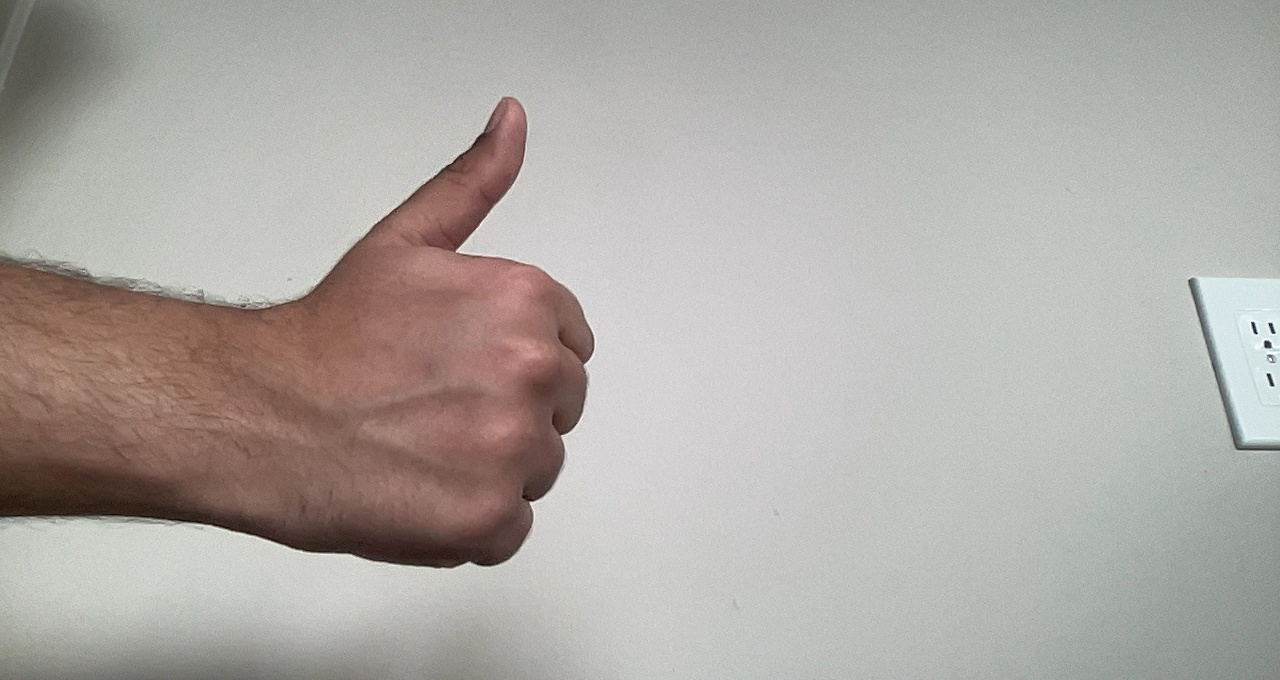thumbsup: (297, 87, 610, 609)
